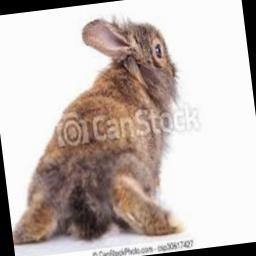rabbit: (12, 18, 183, 244)
